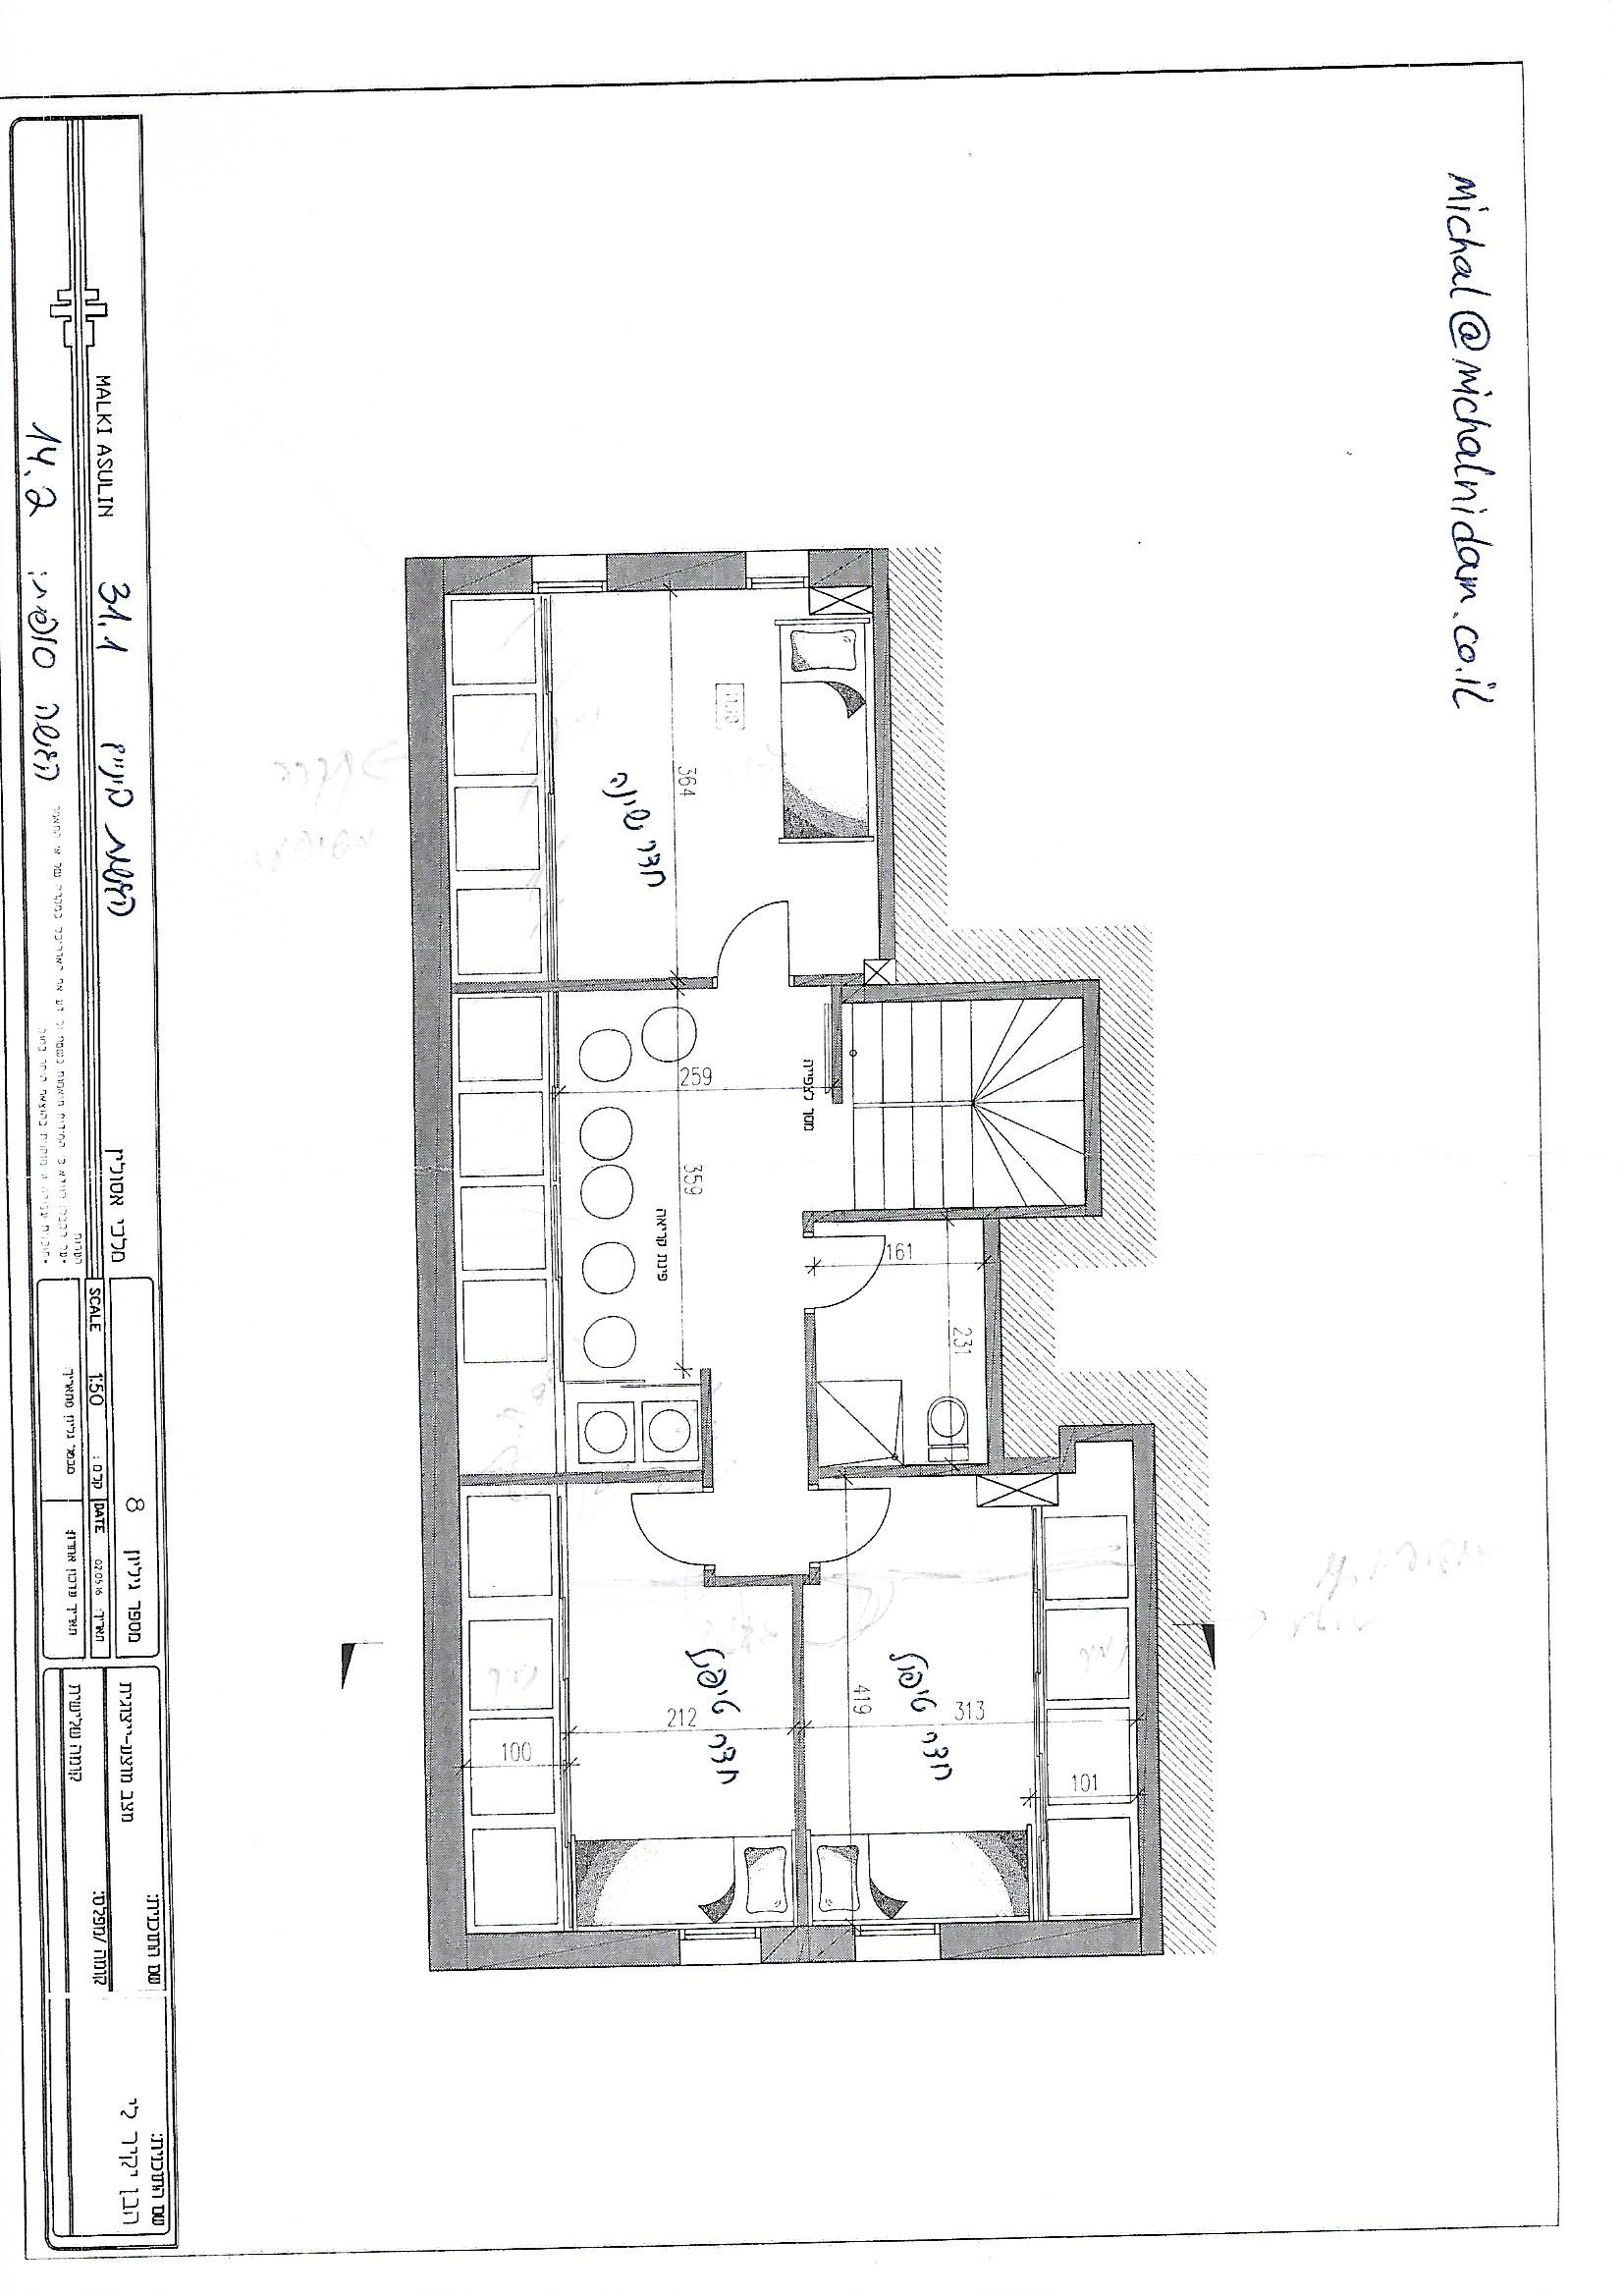door: (626, 1484, 701, 1572), (826, 1480, 902, 1568), (817, 1227, 893, 1315), (710, 898, 796, 972)
wall: (408, 557, 450, 1044), (427, 1647, 473, 1969), (432, 1932, 684, 1967), (944, 1925, 1162, 1955)
window: (852, 1922, 940, 1960), (678, 1929, 761, 1964), (531, 557, 606, 592), (743, 550, 810, 589)
